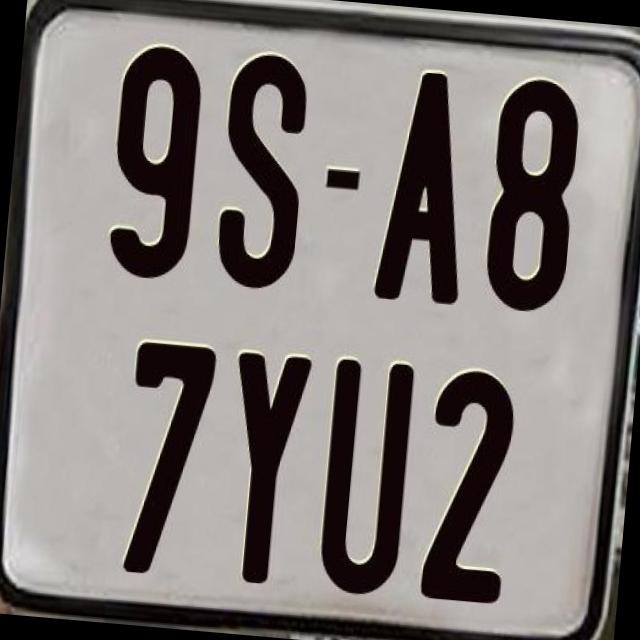2: (418, 364, 522, 602)
7: (115, 341, 222, 583)
8: (478, 74, 581, 322)
9: (102, 41, 205, 281)
A: (368, 64, 476, 305)
S: (212, 46, 312, 290)
U: (312, 358, 416, 603)
Y: (218, 346, 318, 590)
